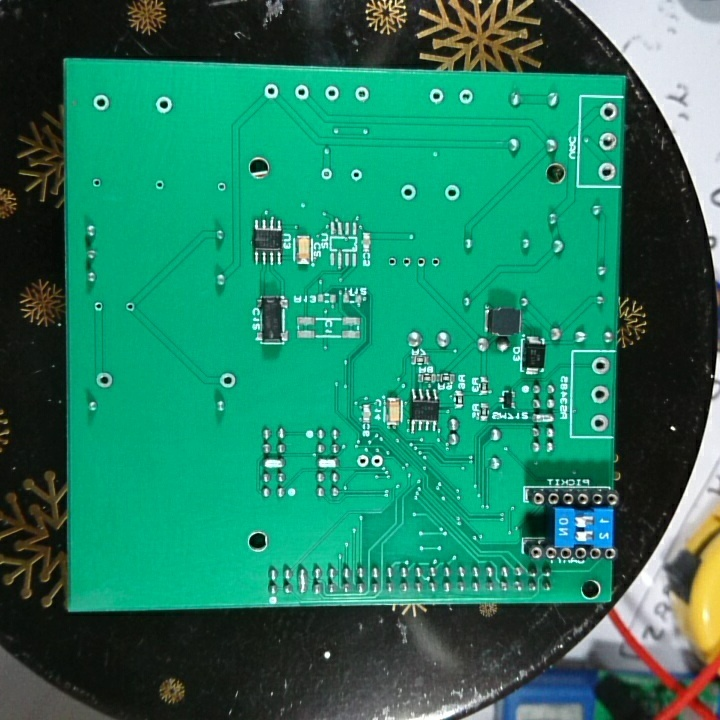F: (153, 92, 178, 118), (91, 369, 121, 389), (90, 91, 113, 117), (590, 381, 613, 406), (597, 129, 619, 153), (590, 412, 612, 435), (590, 355, 612, 378), (597, 101, 619, 123), (596, 160, 617, 183), (216, 369, 240, 389), (456, 86, 476, 108), (442, 182, 464, 202), (399, 181, 418, 204), (353, 83, 371, 104), (262, 82, 280, 102), (293, 82, 310, 103), (324, 82, 341, 103), (349, 164, 364, 186), (429, 87, 447, 105), (370, 451, 385, 472), (91, 298, 107, 317), (122, 297, 138, 315), (90, 174, 105, 192), (354, 452, 369, 470), (153, 177, 169, 193), (319, 165, 334, 182), (429, 253, 443, 271), (385, 254, 399, 270), (214, 178, 227, 195), (414, 255, 427, 270), (399, 255, 412, 270)
P: (259, 457, 288, 472), (295, 565, 308, 598), (530, 412, 559, 426), (316, 456, 341, 469)
